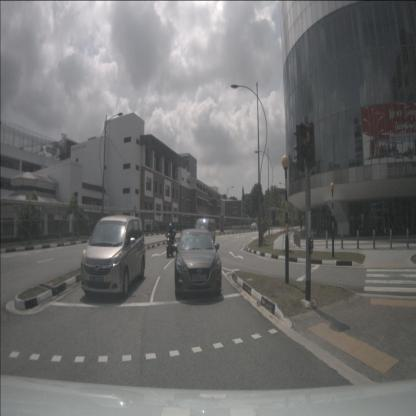human-pedestrian-adult: (300, 217, 303, 232)
vehicle-car: (80, 215, 146, 299), (174, 228, 222, 300), (194, 218, 216, 246), (250, 223, 258, 230)
vehicle-motorcycle: (165, 222, 177, 258)
